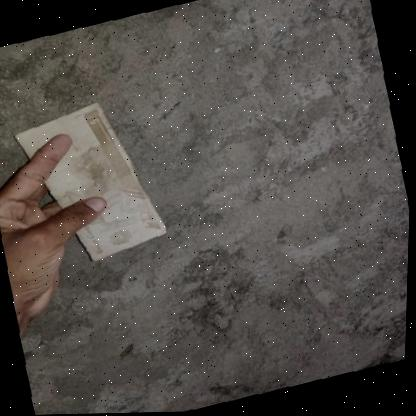five-back-vef: (8, 91, 175, 276)
